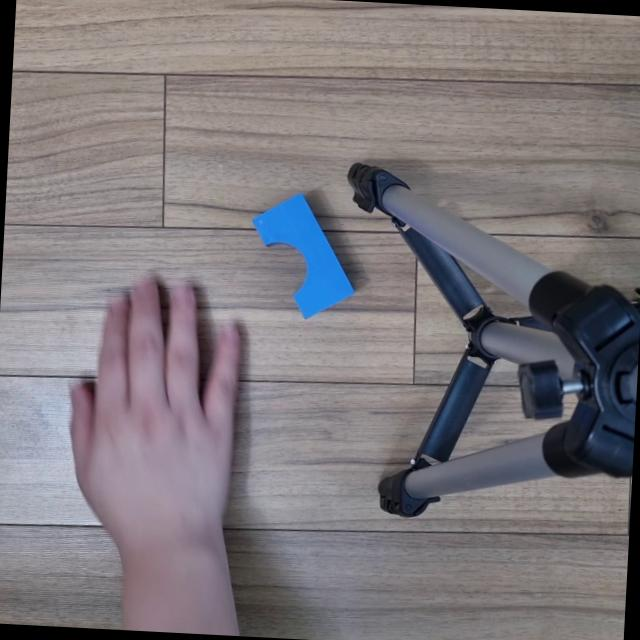block: (246, 185, 364, 322)
hand: (51, 278, 296, 564)
